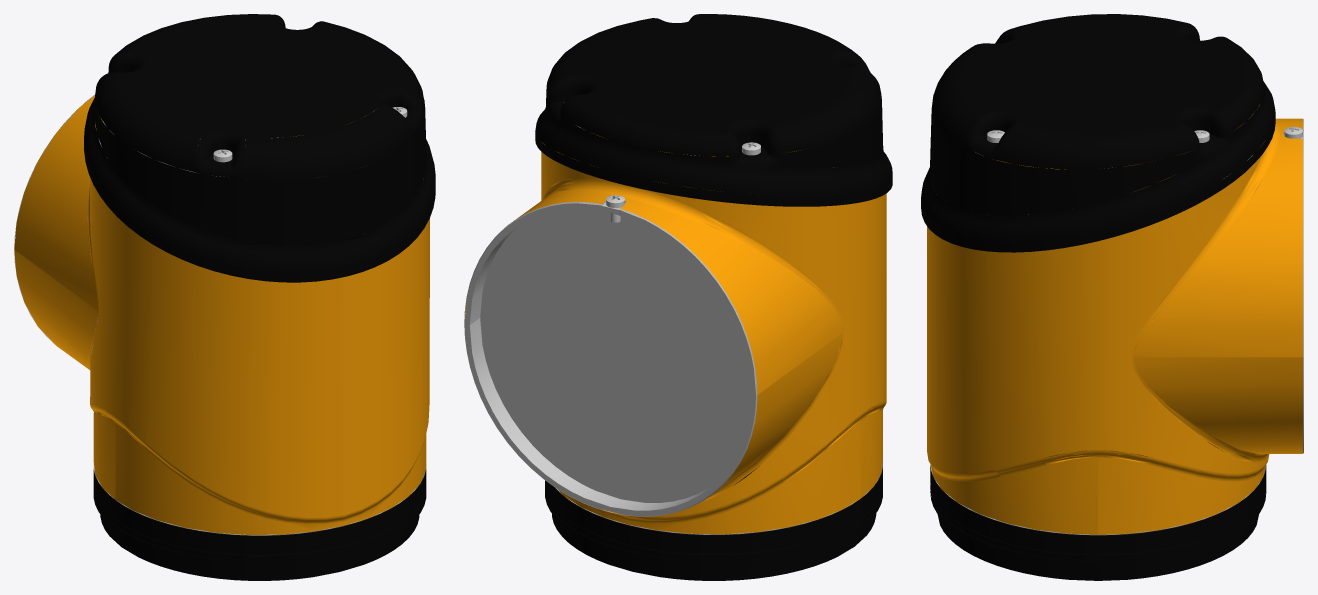
3 views of the same model, side by side, from view 1: azimuth 30°, elevation 25°; view 2: azimuth 150°, elevation 25°; view 3: azimuth 270°, elevation 25° (orthographic).
Parts seen in each view (by area): view 1: mesh; view 2: mesh; view 3: mesh.
Boxes of the visible parts, left/top/right/bottom form: mesh: left=14, top=14, right=435, bottom=580; mesh: left=464, top=14, right=892, bottom=580; mesh: left=921, top=14, right=1303, bottom=580.
Size of the model in its own units: 0.1035 by 0.1118 by 0.1416.
